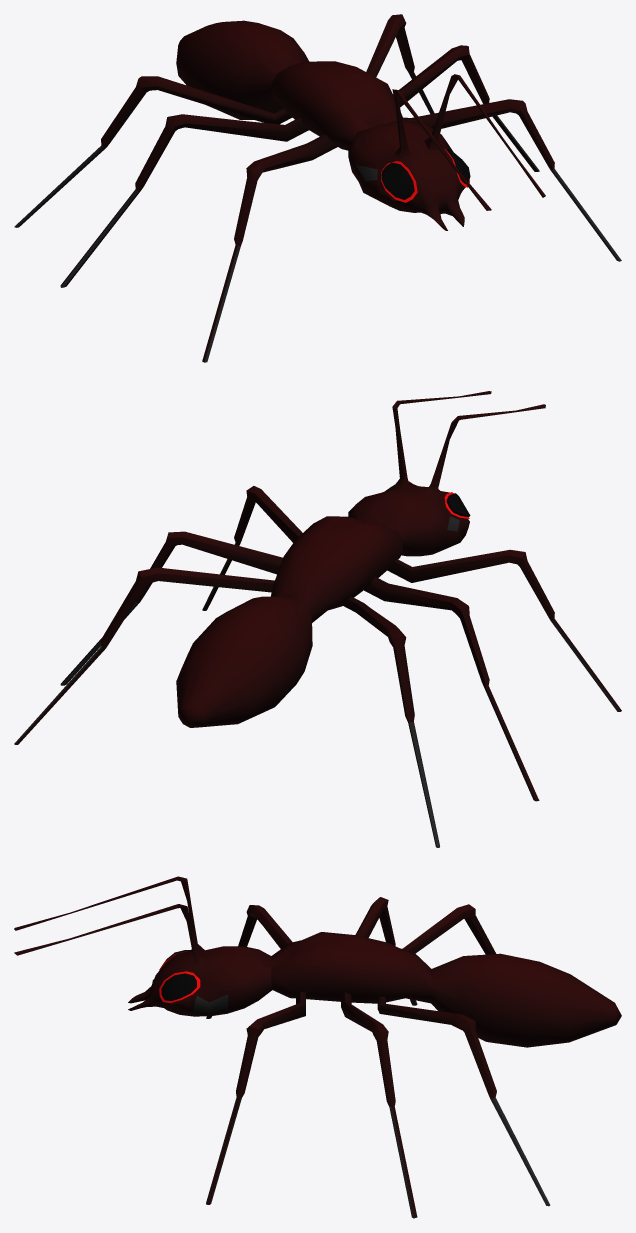
File: Insects_BlackAnt.fbx
3 renders of one model, top to bottom at view 1: azimuth 30°, elevation 25°; view 2: azimuth 150°, elevation 25°; view 3: azimuth 270°, elevation 25°, orthographic. The views are drawn at different scales.
Parts seen in each view (by area): view 1: base (×2); view 2: base (×2); view 3: base (×2).
Boxes of the visible parts, left/top/right/bottom form: base (×2): left=14, top=14, right=621, bottom=362; base (×2): left=14, top=391, right=621, bottom=847; base (×2): left=14, top=876, right=621, bottom=1218.
Bounding box in the file's own units: 99.67 × 47.77 × 119.
